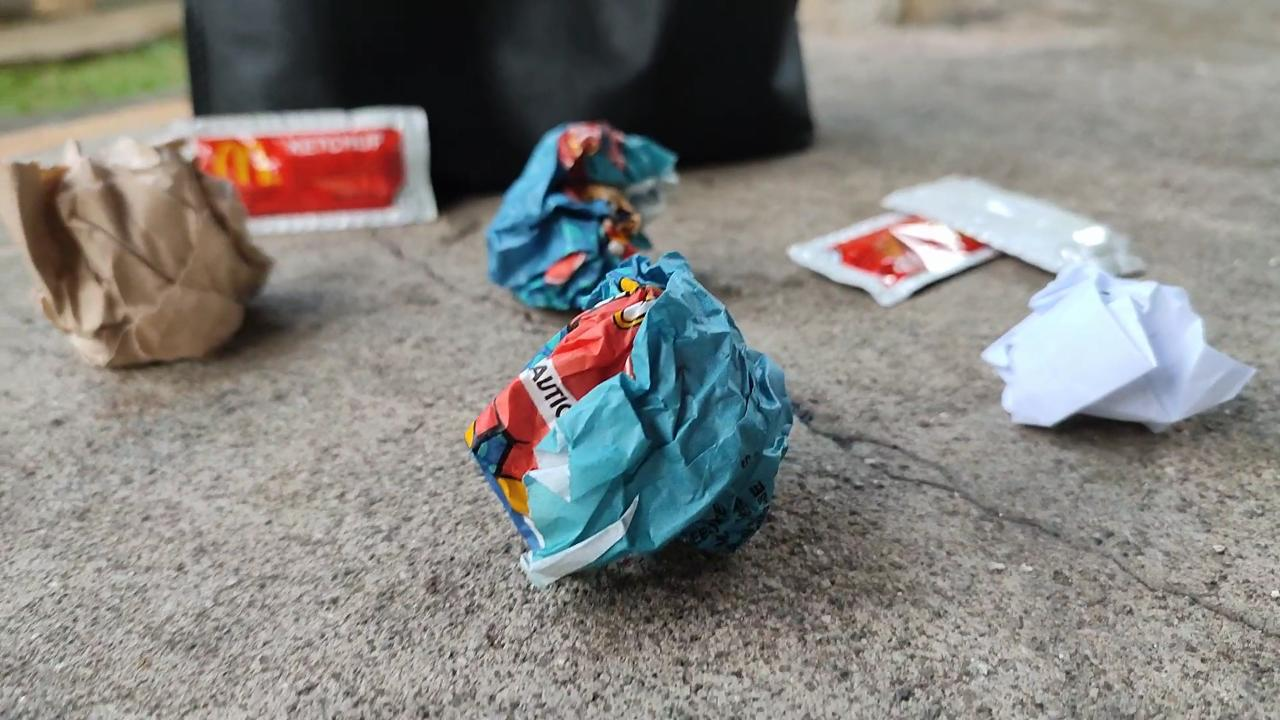Paper: (471, 257, 801, 603), (0, 124, 297, 386), (459, 87, 702, 334), (976, 250, 1261, 460)
